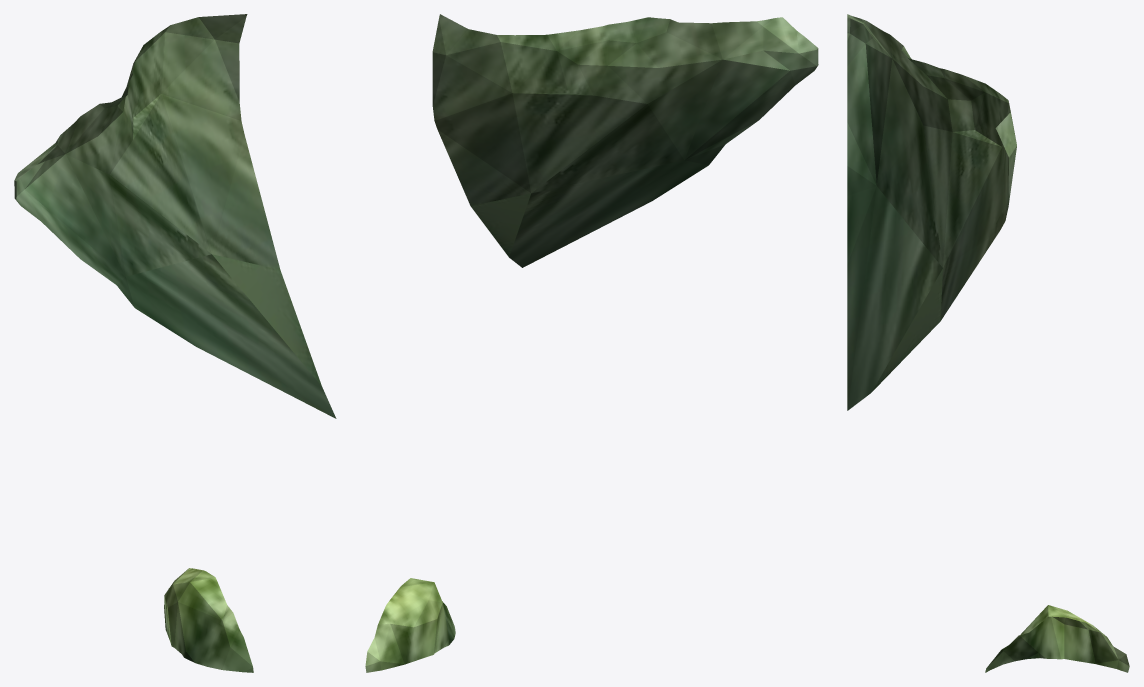
3 views of the same model, side by side, from view 1: azimuth 30°, elevation 25°; view 2: azimuth 150°, elevation 25°; view 3: azimuth 270°, elevation 25° (orthographic). The views are drawn at different scales.
Size of the model in its own units: 1.51 by 2.95 by 1.39.
1 material, 1 textured.
